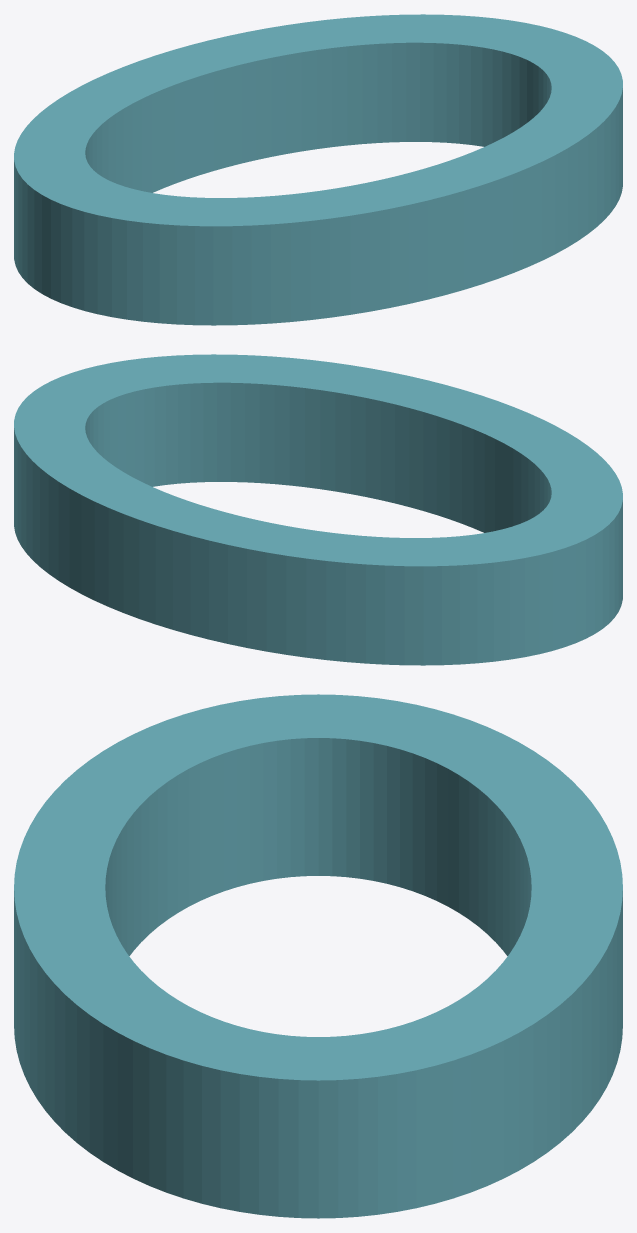
Rendered from colosseum_ellipse_annulus.glb.
3 renders of one model, top to bottom at view 1: azimuth 30°, elevation 25°; view 2: azimuth 150°, elevation 25°; view 3: azimuth 270°, elevation 25°, orthographic. The views are drawn at different scales.
Visible parts, largest first — view 1: elliptical_annulus_ideal; view 2: elliptical_annulus_ideal; view 3: elliptical_annulus_ideal.
Boxes of the visible parts, x1,y1,x2,y2 form: elliptical_annulus_ideal: [14, 14, 622, 325]; elliptical_annulus_ideal: [14, 354, 622, 665]; elliptical_annulus_ideal: [14, 694, 622, 1218].
Size of the model in its own units: 12 by 2 by 8.
